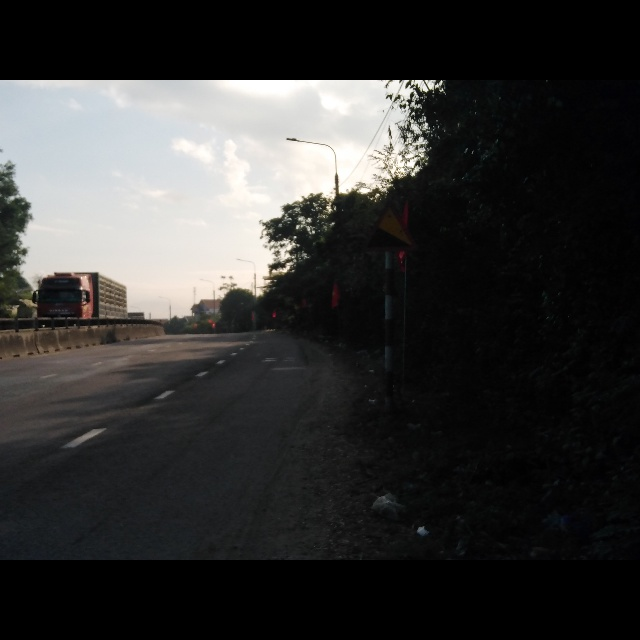Dốc lên nguy hiểm: (361, 199, 419, 254)
